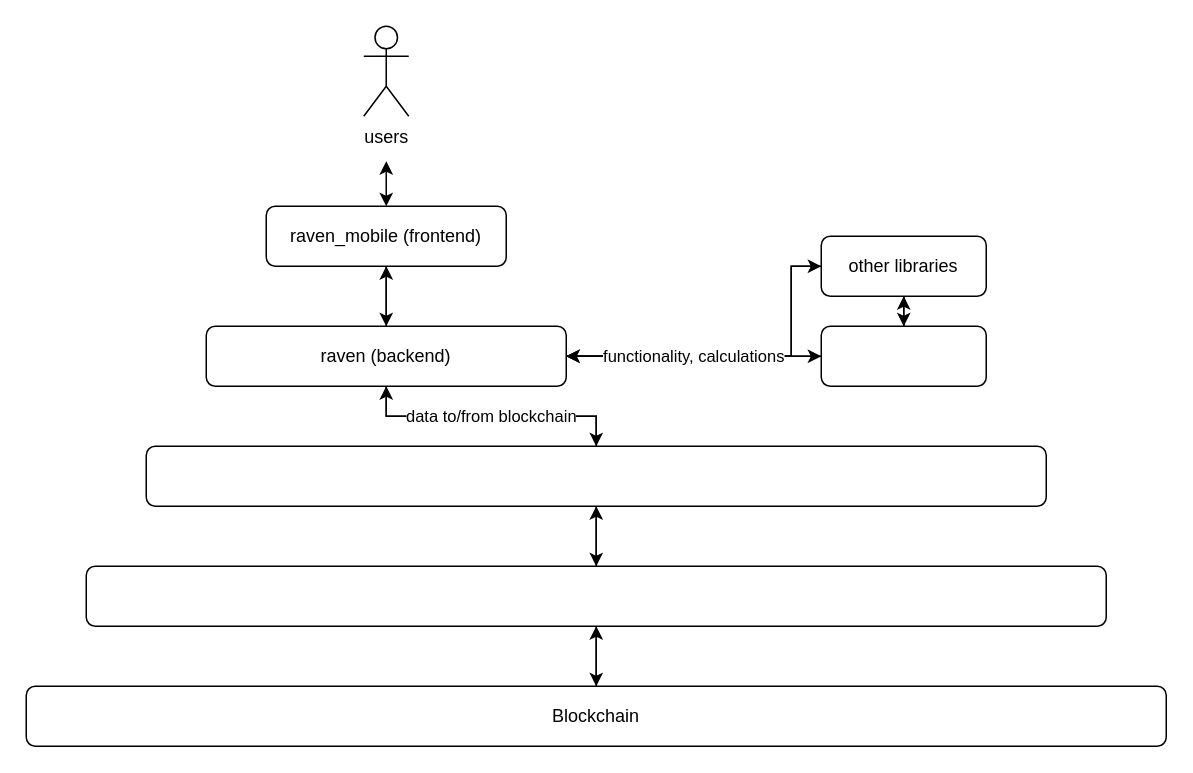
Some shapes in this 1193 by 773 pixel diagram are drawn without their labels. Each missing label, with the box of its shape:
Electrum server: (85, 565, 1106, 626)
raven_electrum: (145, 445, 1046, 506)
ravencoin: (820, 325, 986, 386)
